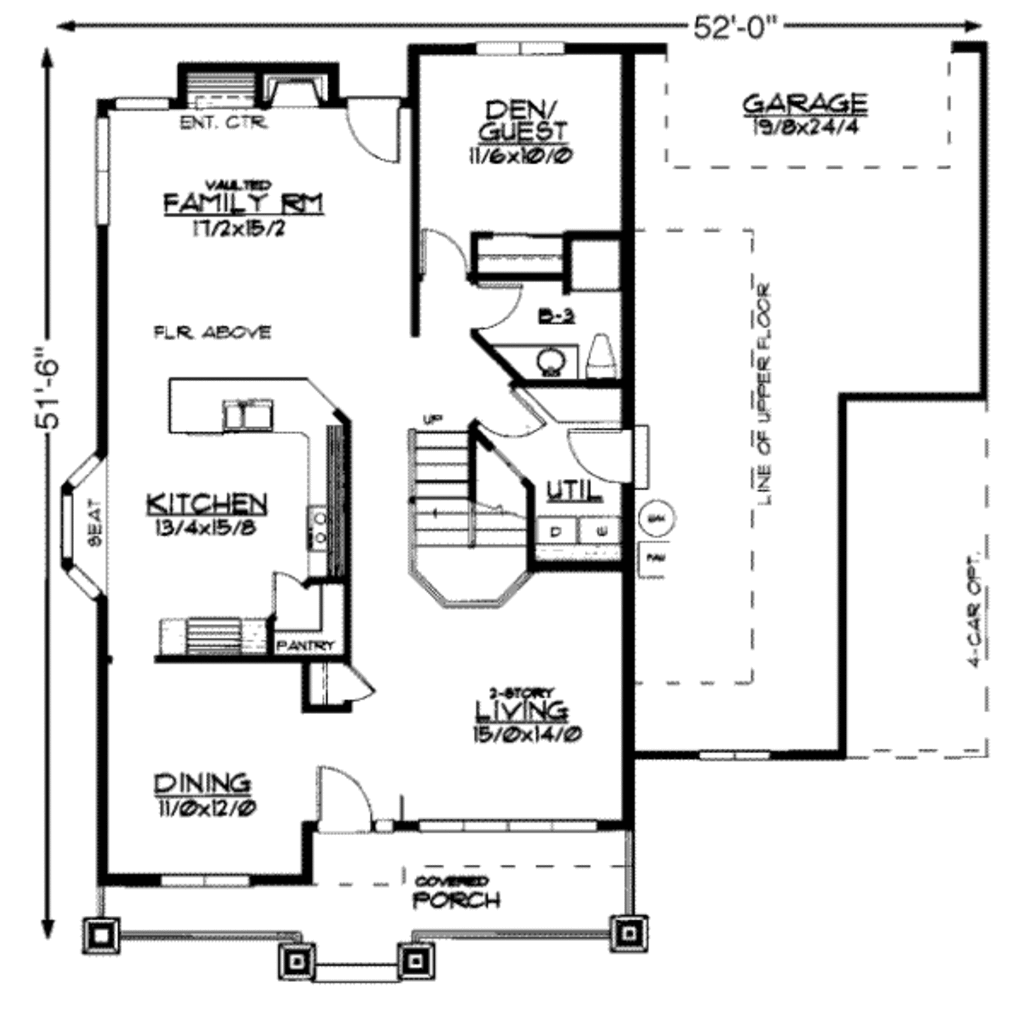door: (305, 753, 395, 839), (570, 421, 664, 494), (461, 382, 555, 445), (346, 93, 408, 164), (471, 282, 530, 335), (329, 656, 388, 707), (418, 226, 469, 284), (263, 564, 314, 619)
large_sink: (573, 326, 626, 388)
small_sink: (514, 342, 581, 381)
stairs: (387, 406, 532, 613)
twin_sink: (214, 391, 293, 442)
window: (57, 447, 108, 611), (412, 816, 613, 836), (87, 106, 116, 226), (149, 870, 252, 895), (474, 38, 565, 62), (696, 749, 781, 764), (101, 97, 168, 112)
